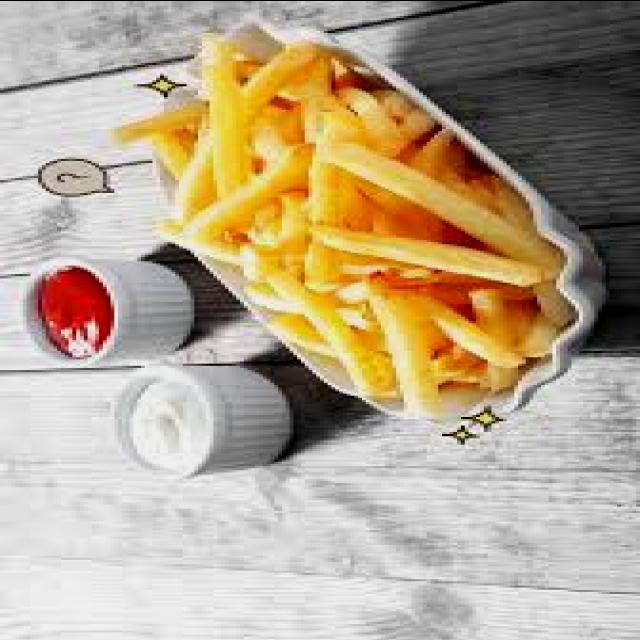kentang goreng: (141, 32, 602, 412)
